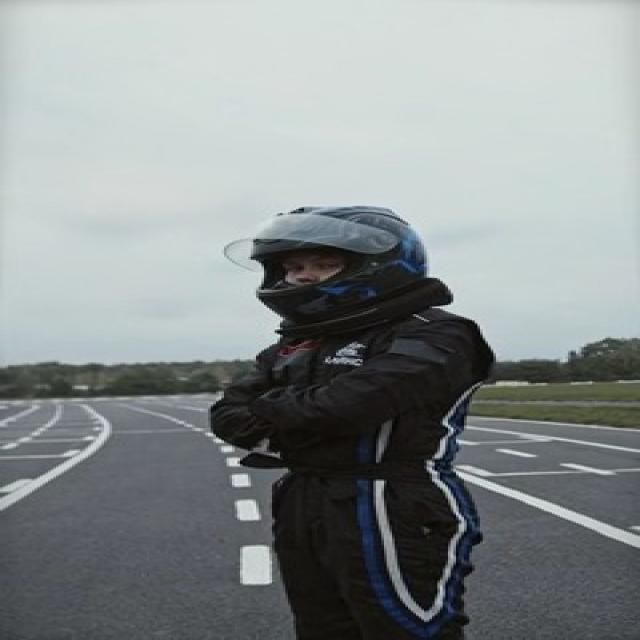Helmet_Wearer: (223, 201, 457, 331)
Jacket_Wearer: (187, 296, 511, 477)
Person: (167, 201, 528, 640)
